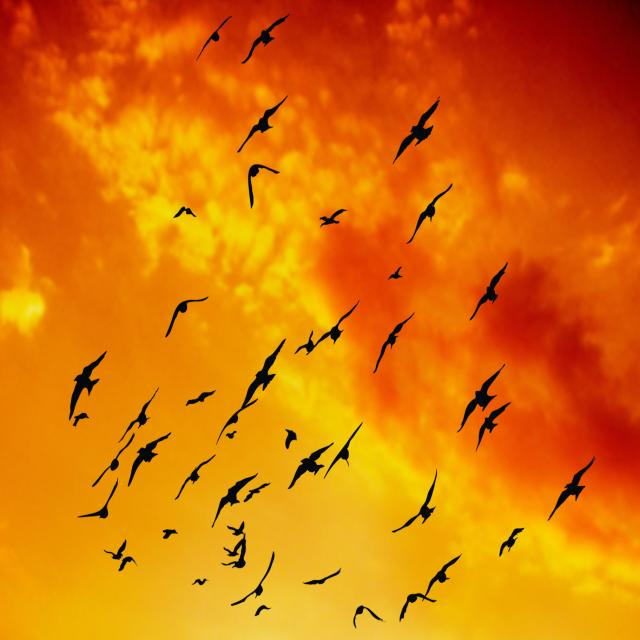bird: (394, 464, 441, 535), (234, 95, 289, 154), (392, 99, 442, 163), (236, 338, 288, 396), (548, 460, 596, 519), (404, 187, 454, 243), (68, 353, 108, 422), (127, 431, 172, 492), (372, 314, 414, 376), (232, 554, 277, 609), (213, 472, 261, 523), (308, 302, 360, 346), (242, 16, 288, 64), (470, 264, 509, 319), (166, 296, 212, 341), (288, 446, 334, 489), (211, 399, 258, 438), (246, 164, 283, 213), (321, 426, 366, 466), (470, 401, 510, 445), (121, 388, 160, 432), (174, 456, 216, 496), (95, 434, 139, 472), (198, 17, 233, 57), (424, 554, 461, 590), (400, 592, 436, 622), (79, 494, 117, 521), (105, 539, 134, 569), (304, 565, 341, 588), (222, 539, 249, 568), (499, 528, 525, 558), (241, 479, 272, 504), (352, 605, 385, 628), (184, 388, 216, 410), (319, 208, 346, 230), (294, 332, 316, 358), (280, 427, 298, 451), (174, 207, 198, 224), (225, 521, 248, 537), (388, 265, 404, 283), (162, 527, 179, 540), (255, 606, 272, 619), (192, 577, 210, 589), (226, 429, 234, 442)
